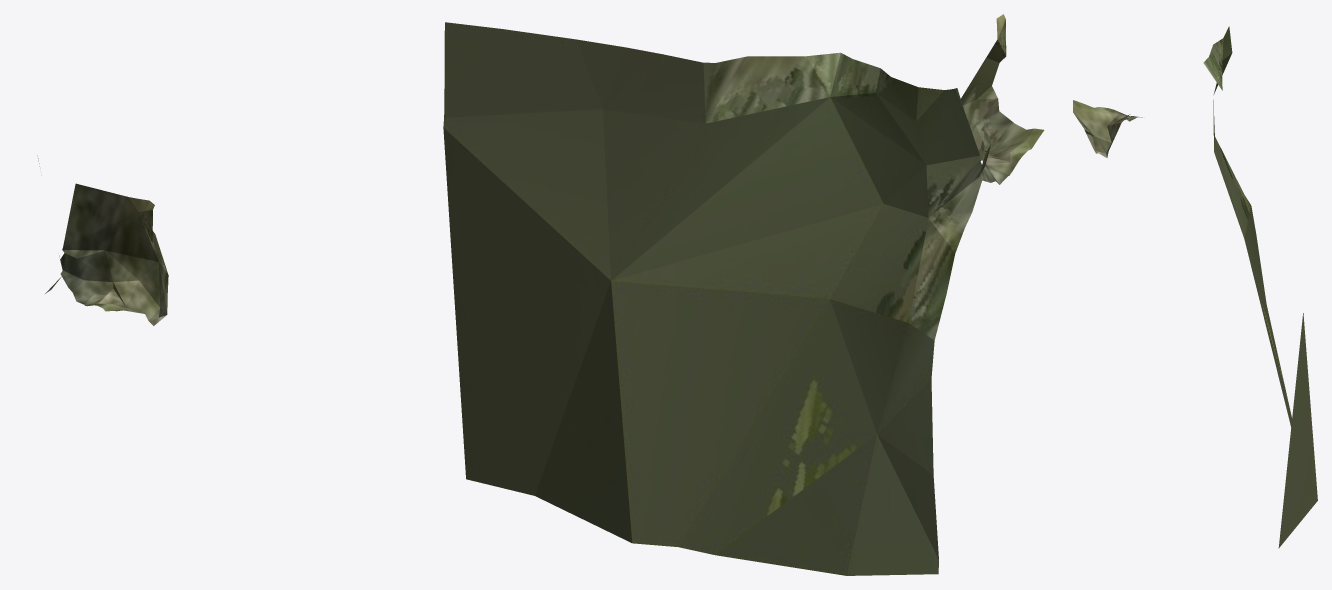
The picture shows the model from 3 angles, left to right: view 1: azimuth 30°, elevation 25°; view 2: azimuth 150°, elevation 25°; view 3: azimuth 270°, elevation 25°; orthographic projection. The views are drawn at different scales.
Bounding box in the file's own units: 2.95 × 2.95 × 1.71.
3 materials, 3 textured.
